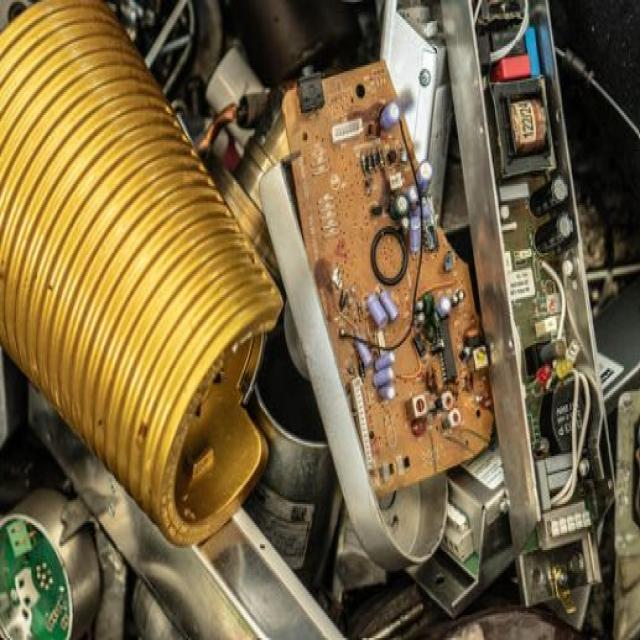electronic: (0, 0, 290, 577), (380, 0, 628, 620), (270, 36, 506, 550)
